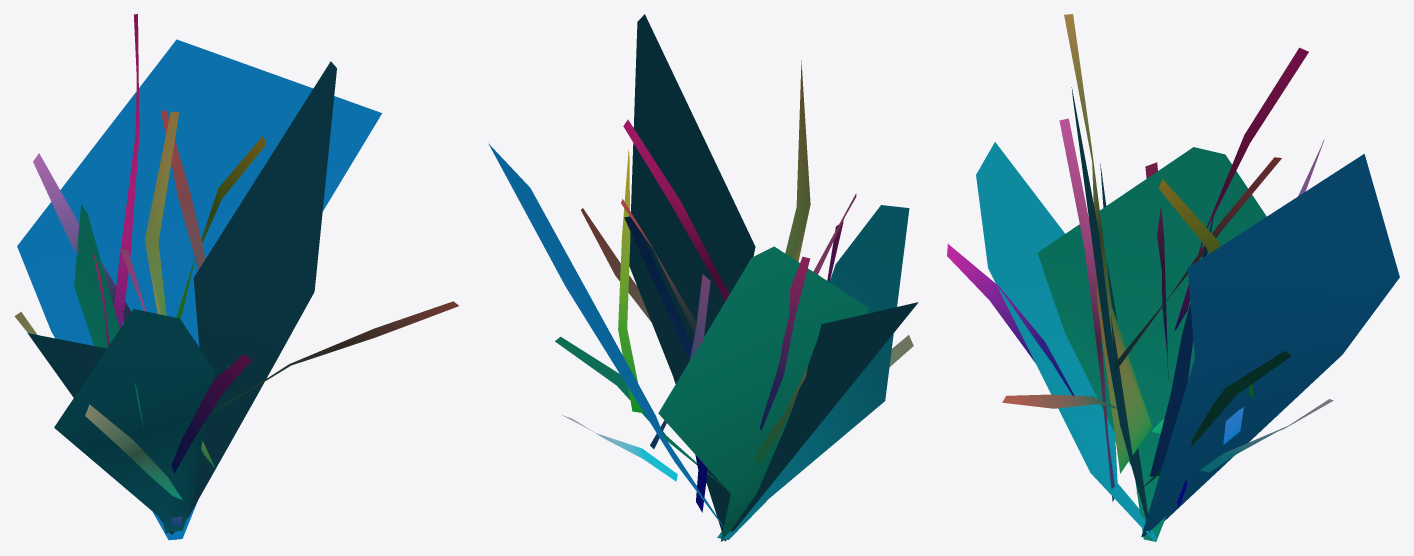
The model's file is Curbside_Weeds_ujzjfexja_Mid_ujzjfexja_VarB_LOD1.fbx.
3 views of the same model, side by side, from view 1: azimuth 30°, elevation 25°; view 2: azimuth 150°, elevation 25°; view 3: azimuth 270°, elevation 25° (orthographic). The views are drawn at different scales.
Parts seen in each view (by area): view 1: _xw42_VarB_LOD2; view 2: _xw42_VarB_LOD2; view 3: _xw42_VarB_LOD2.
Part boxes in pixels (x1,y1,x2,y2): _xw42_VarB_LOD2: (14, 14, 458, 540); _xw42_VarB_LOD2: (488, 14, 918, 541); _xw42_VarB_LOD2: (947, 14, 1399, 541).
Size of the model in its own units: 13.52 by 15.61 by 12.36.
